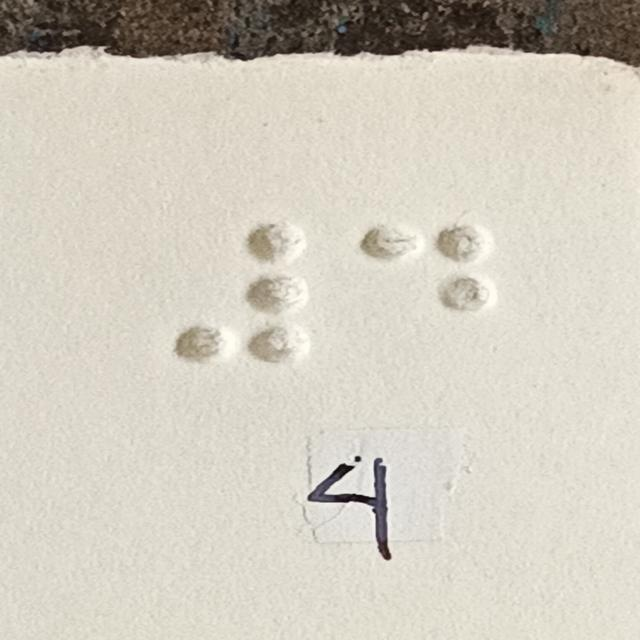digit_4: (360, 222, 490, 366)
number_sign: (176, 220, 306, 365)
